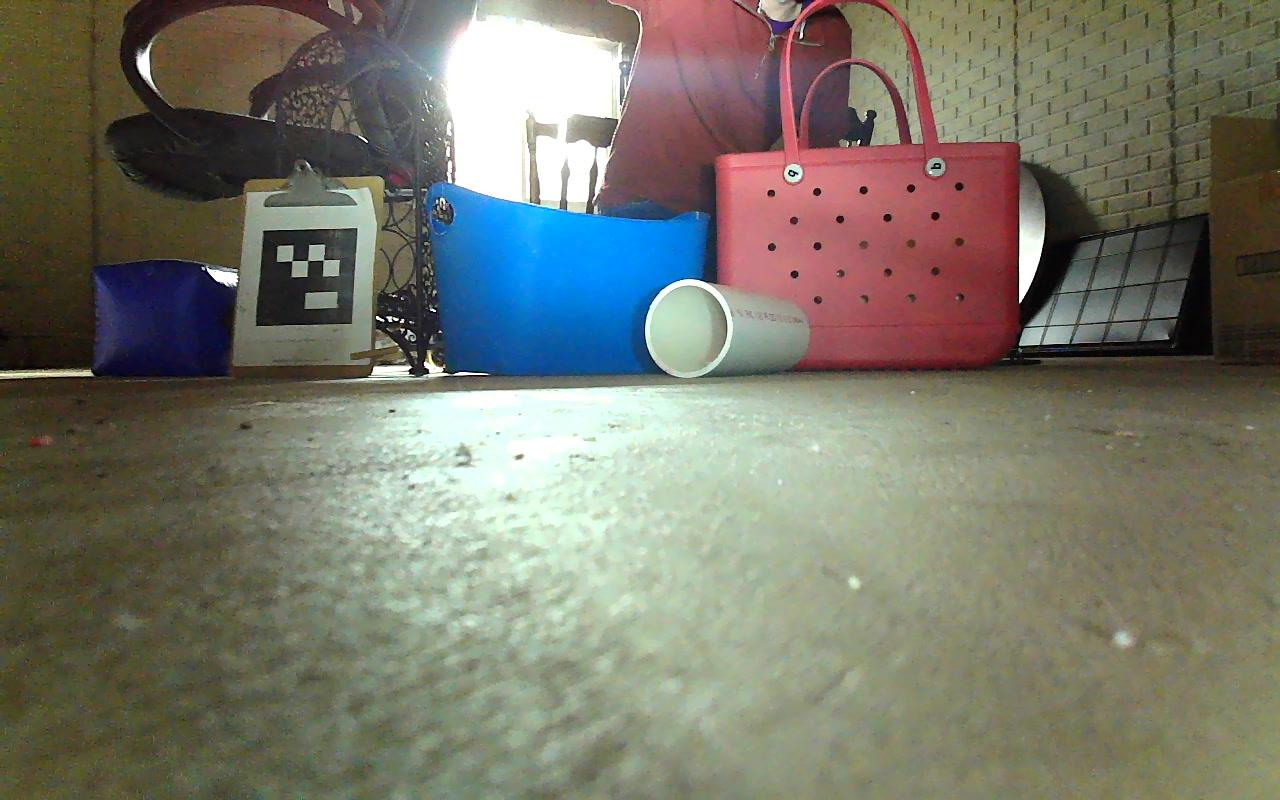coral: (645, 279, 810, 377)
